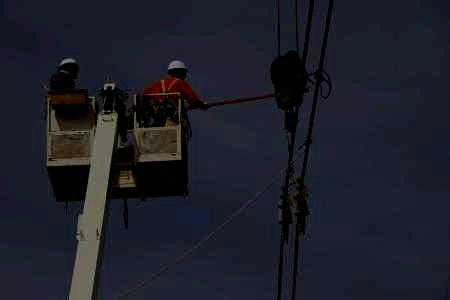helmet: (166, 59, 188, 80), (57, 58, 80, 77)
